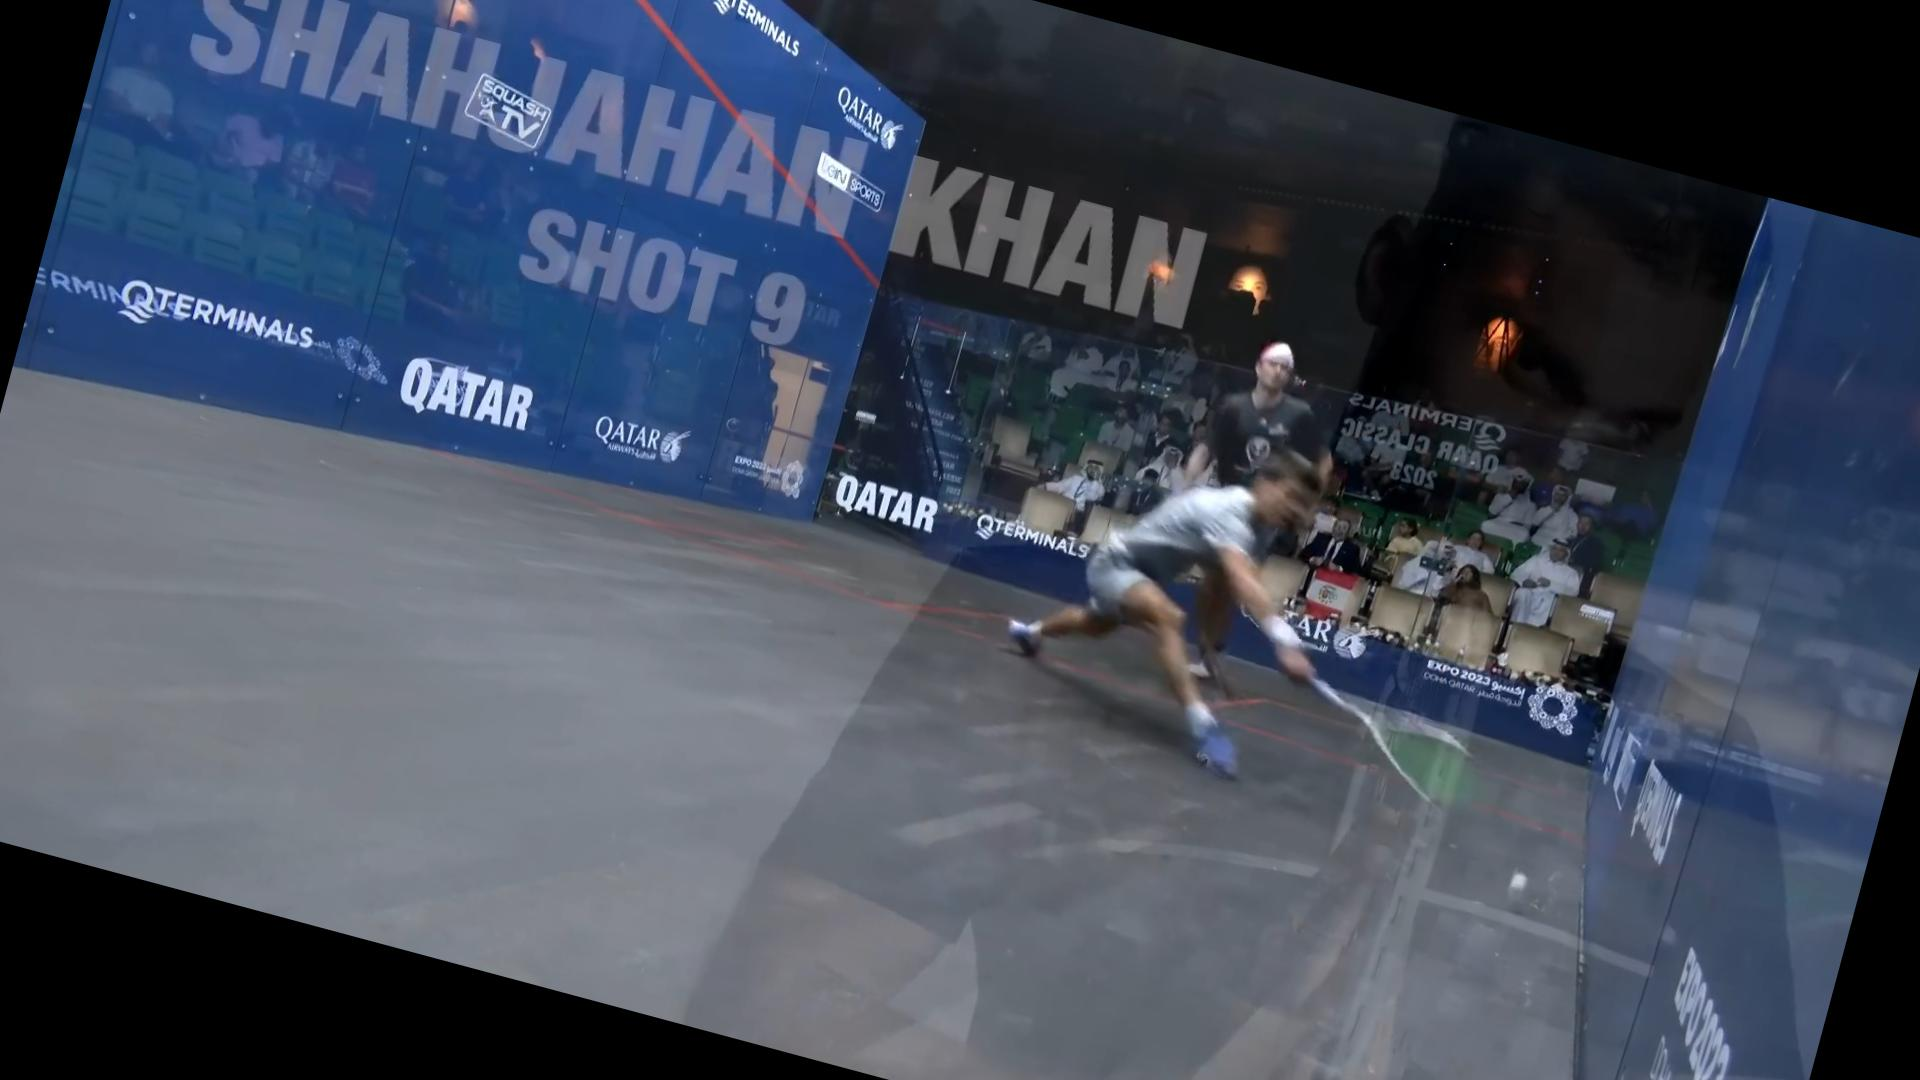Racket: (1288, 676, 1509, 824)
